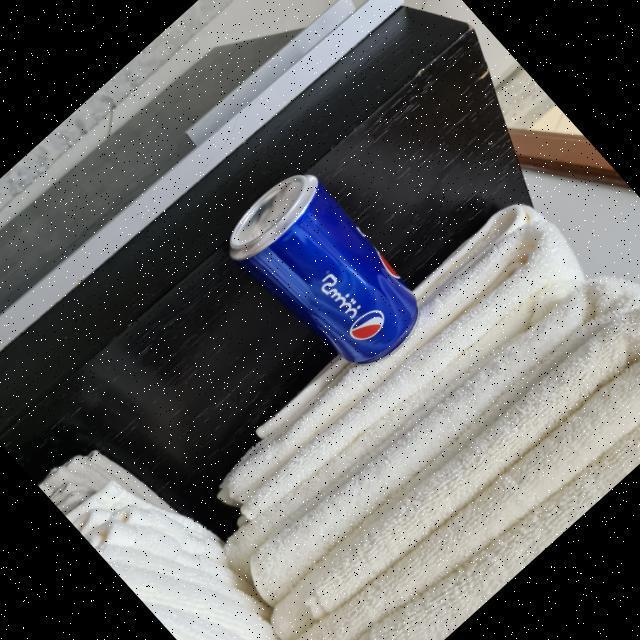can: (217, 156, 446, 392)
